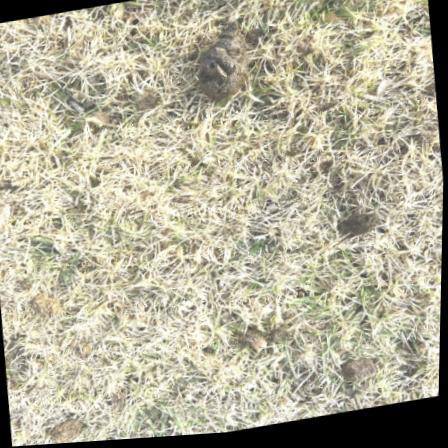dog-poop: (188, 17, 261, 107), (321, 148, 382, 250)
